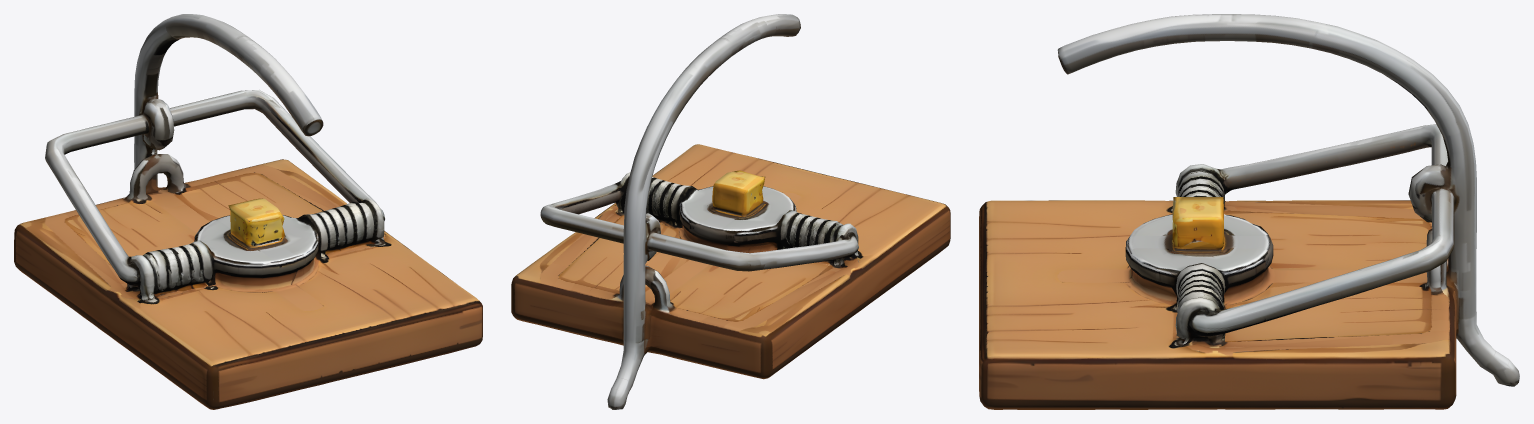
File: trap.obj
3 renders of one model, left to right at view 1: azimuth 30°, elevation 25°; view 2: azimuth 150°, elevation 25°; view 3: azimuth 270°, elevation 25°, orthographic. The views are drawn at different scales.
Parts seen in each view (by area): view 1: 857c60fc-8154-430f-a4cd-a31235f4e2d4; view 2: 857c60fc-8154-430f-a4cd-a31235f4e2d4; view 3: 857c60fc-8154-430f-a4cd-a31235f4e2d4.
Boxes of the visible parts, x1,y1,x2,y2 form: 857c60fc-8154-430f-a4cd-a31235f4e2d4: (14,14,482,409); 857c60fc-8154-430f-a4cd-a31235f4e2d4: (511,14,950,409); 857c60fc-8154-430f-a4cd-a31235f4e2d4: (979,14,1519,409).
Bounding box in the file's own units: 1.34 × 1.43 × 1.91.
Materials: 1 (1 with a texture image).
